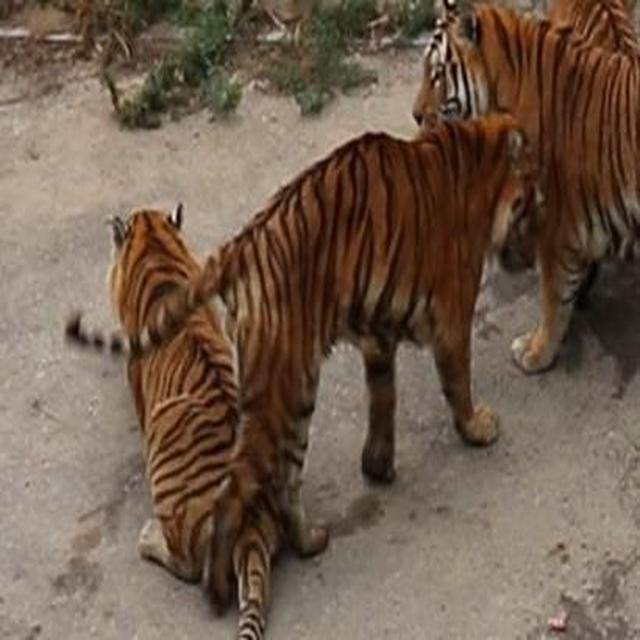tiger: (65, 107, 534, 639), (411, 0, 639, 385), (238, 0, 329, 47)
